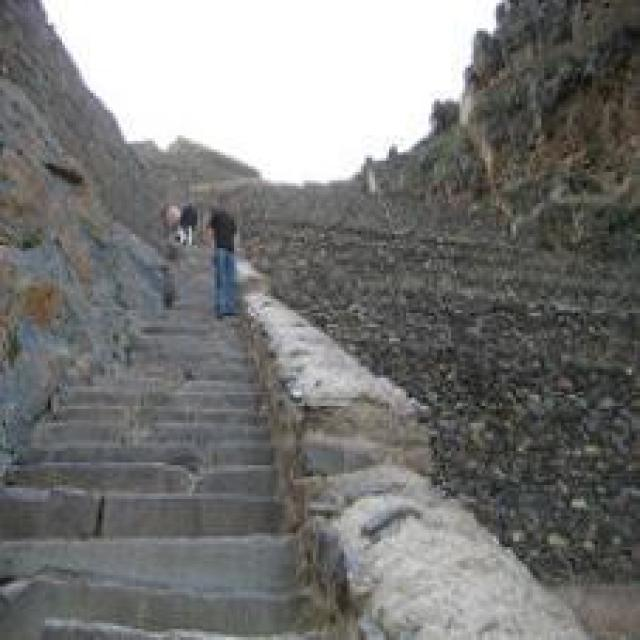upstair: (4, 379, 308, 613)
